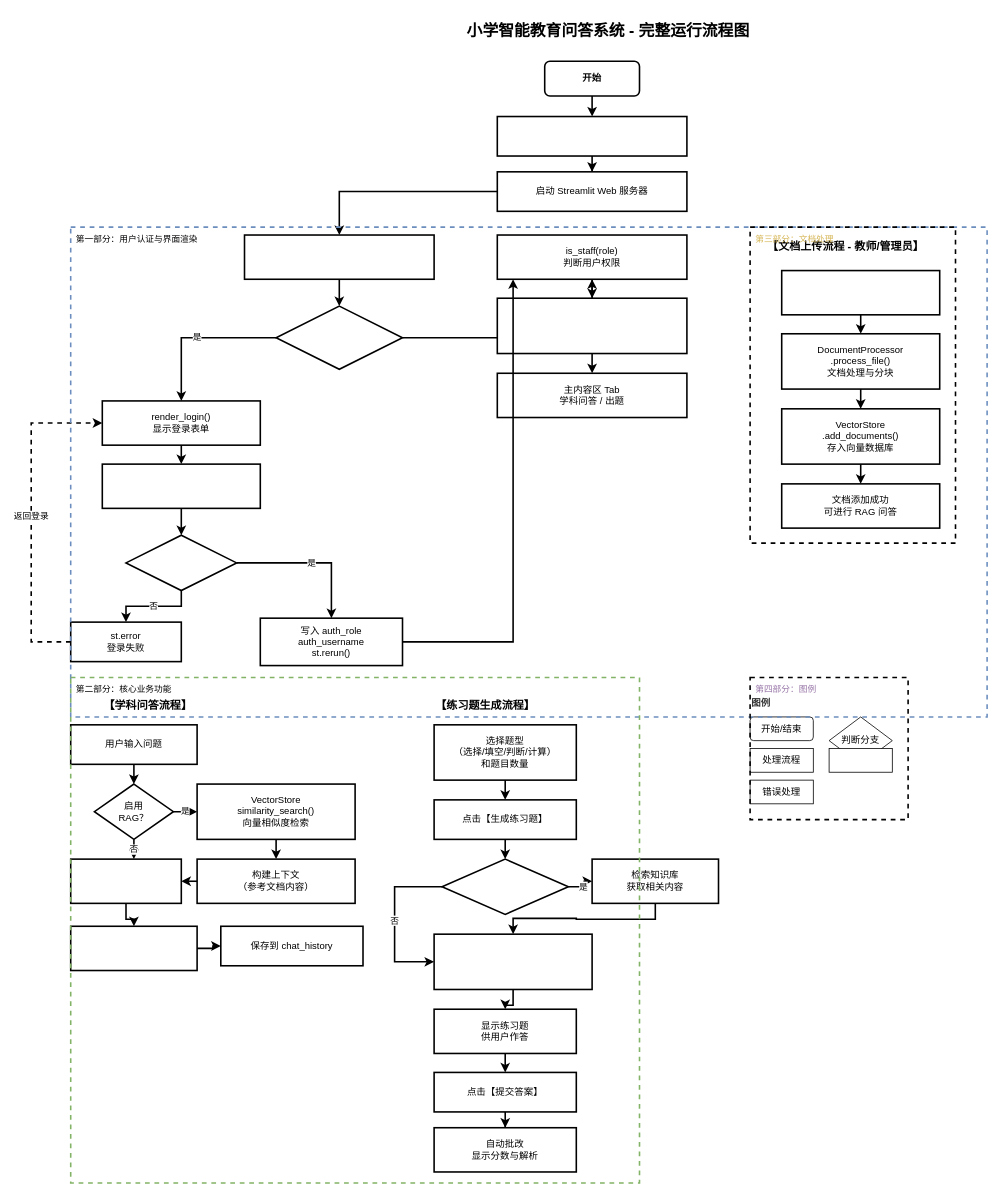
This 1001x1197 diagram has some shape labels left out. Each missing label, with the centre of its shape:
auth_role 为空？: pixel 339 337
ExerciseGenerator .generate_exercises() LLM 生成练习题: pixel 512 961
init_session_state() 初始化会话状态: pixel 338 257
LLM (Qwen) chat() 生成回答: pixel 126 881
LLM 调用: pixel 860 760
render_sidebar(staff) 渲染侧边栏 (上传/知识库仅教师/管理员): pixel 591 325
verify_login() 验证用户名密码: pixel 181 486
上传 PDF/DOCX 文件 到指定学科目录: pixel 860 292
启用知识库 且有文档？: pixel 505 886
显示回答 （含参考来源）: pixel 134 948
运行 main.py: pixel 591 135
验证 通过？: pixel 181 562
